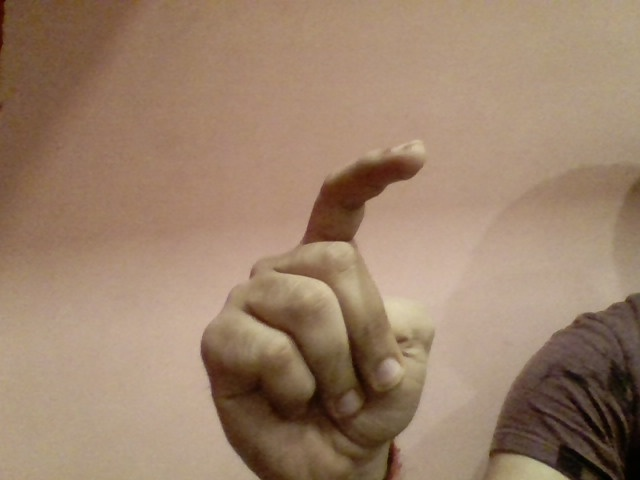x: (190, 131, 450, 475)
